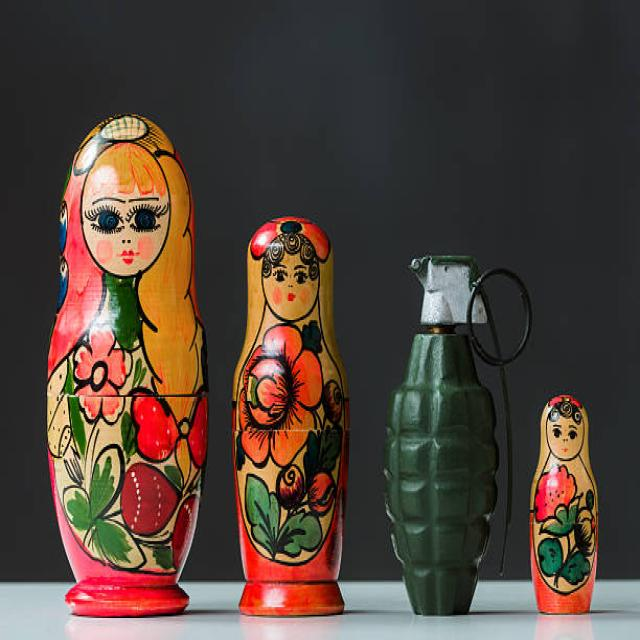grenade: (382, 248, 536, 617)
